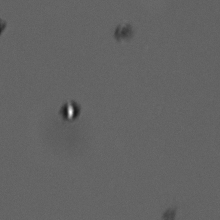Dead Cell: (114, 22, 135, 39)
Living Cell: (59, 99, 83, 122)
